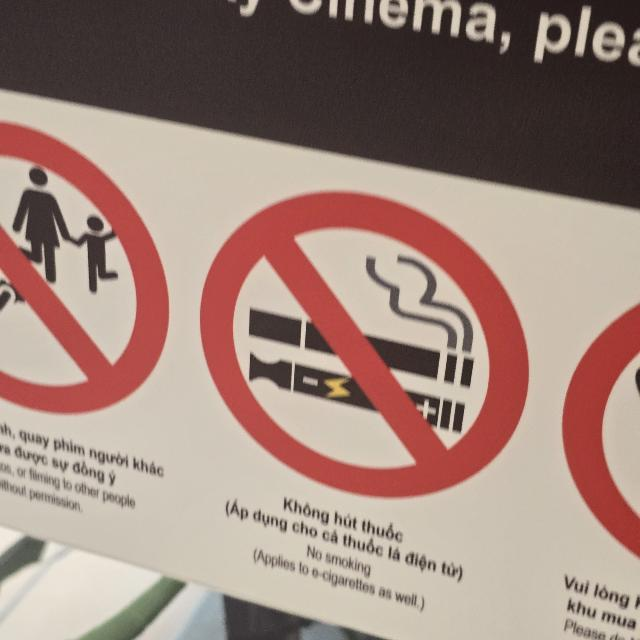cam hut thuoc: (200, 192, 528, 497)
